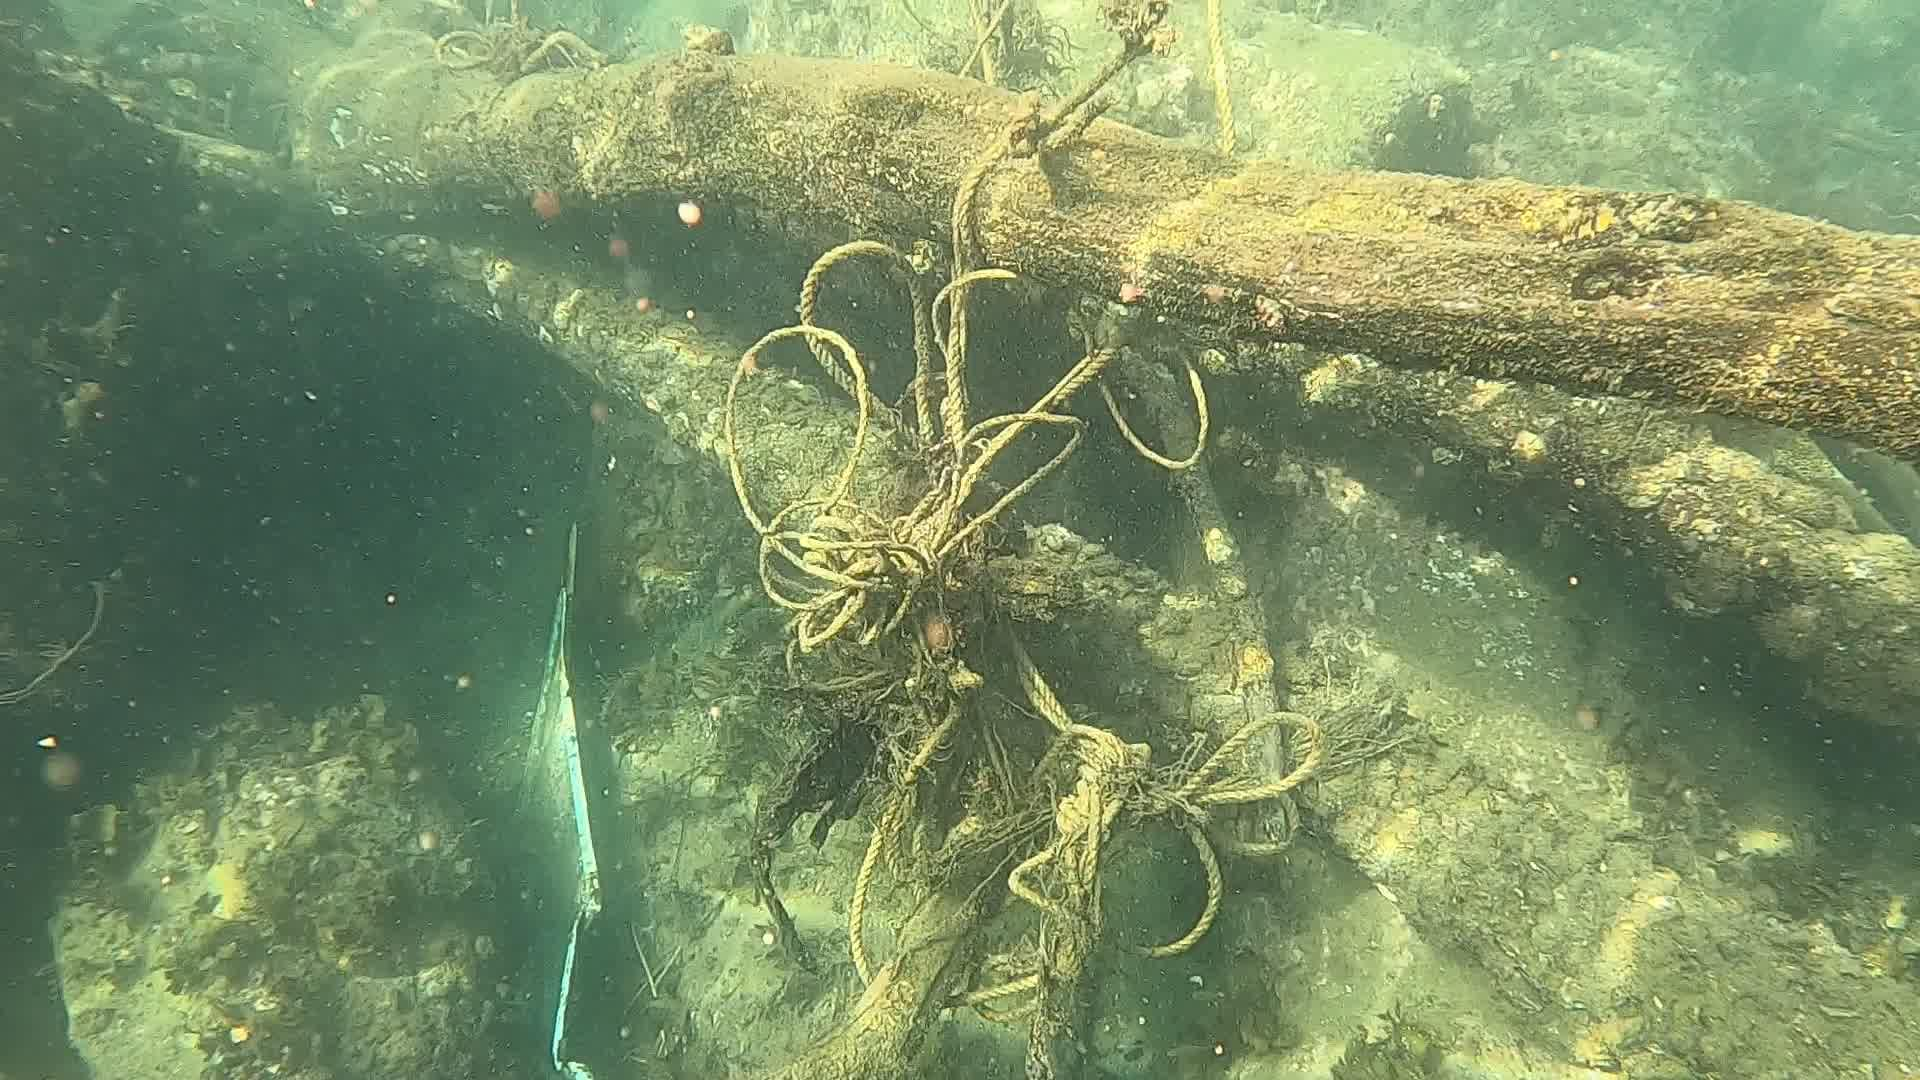bundle of ropes: (723, 0, 1327, 1021)
wood: (377, 229, 1920, 1072), (194, 0, 1920, 462), (1203, 335, 1920, 712)
